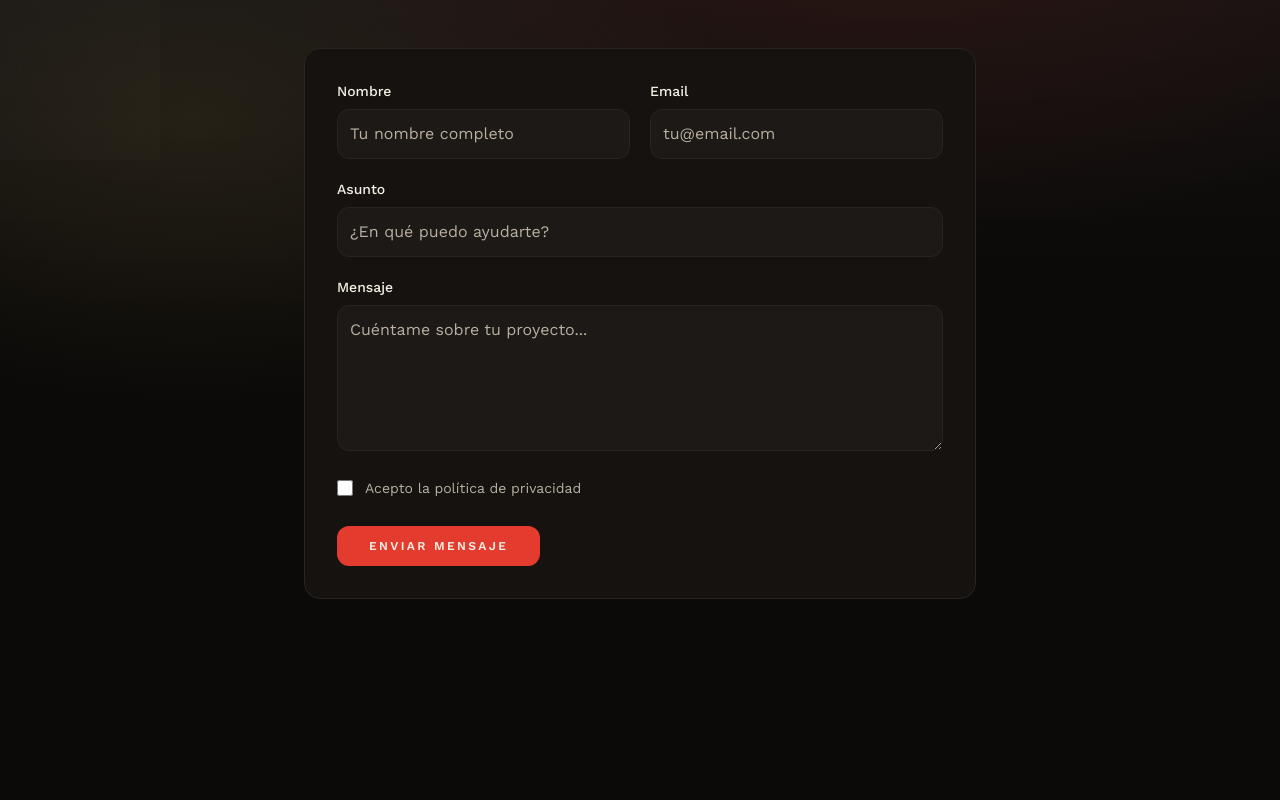
Test: ContactFormPanel › real form (SMTP configured) › submits valid data to the API and shows a localized success message
In the field labelled "Nombre": (484, 134) [337,109,630,159], type "Emmanuel Berrio"
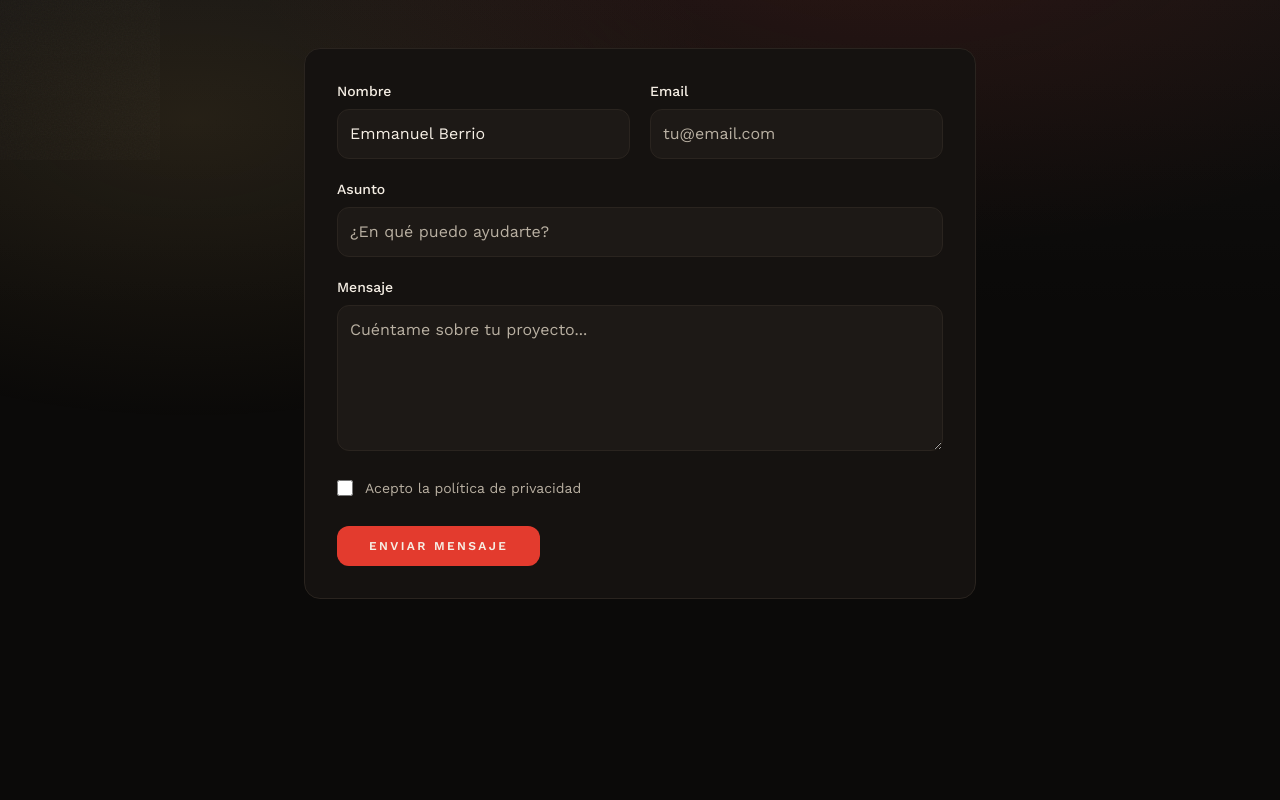
In the field labelled "Email": (796, 134) [650,109,943,159], type "emmanuel@example.com"
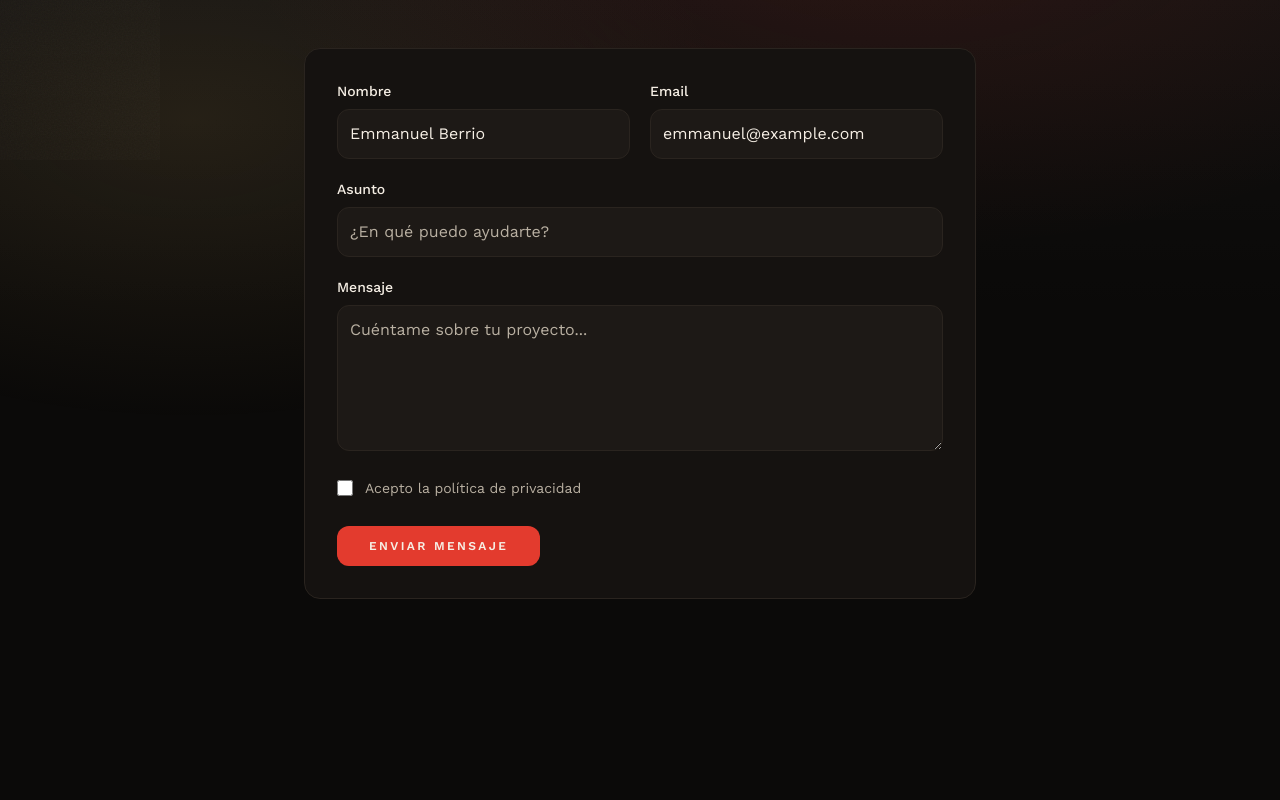
In the field labelled "Asunto": (640, 232) [337,207,943,257], type "Oportunidad"
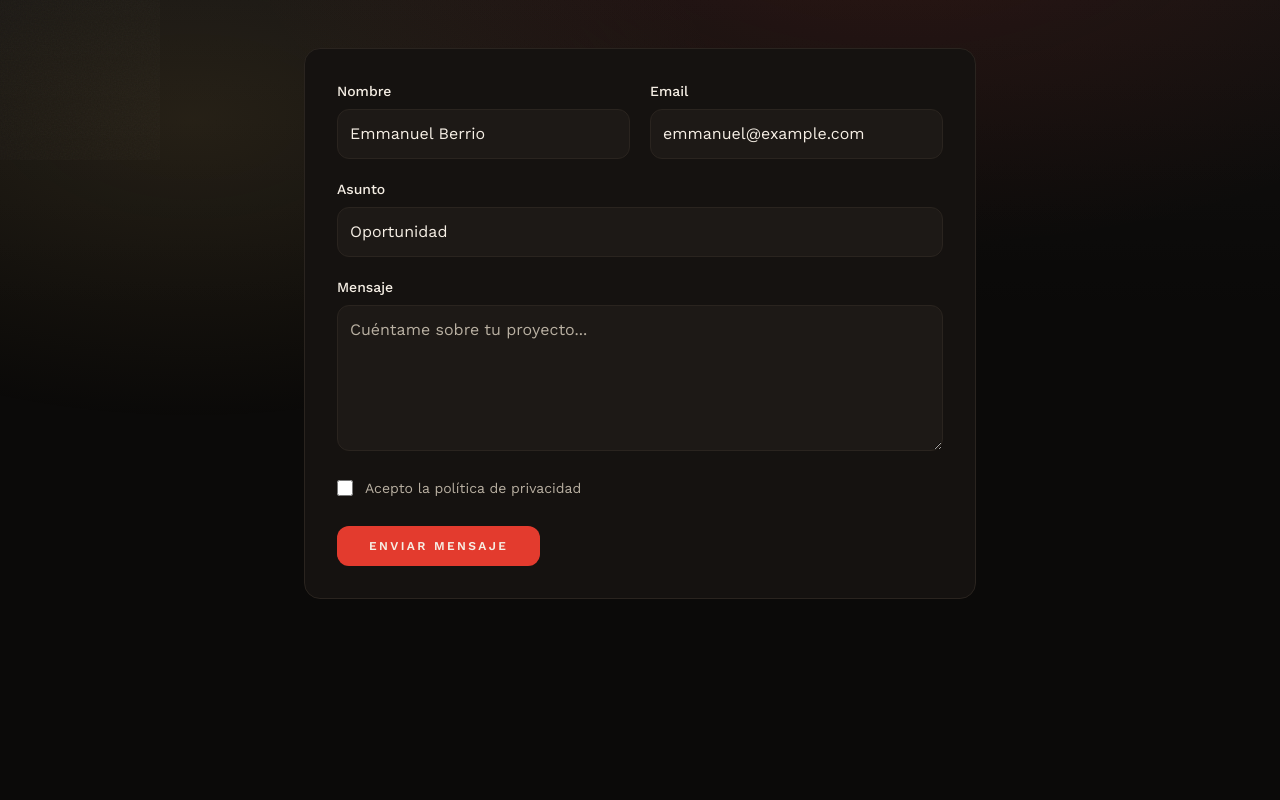
In the text box labelled "Mensaje": (640, 378) [337,305,943,451], type "Me gustaría conversar sobre una vacante para tu equipo."
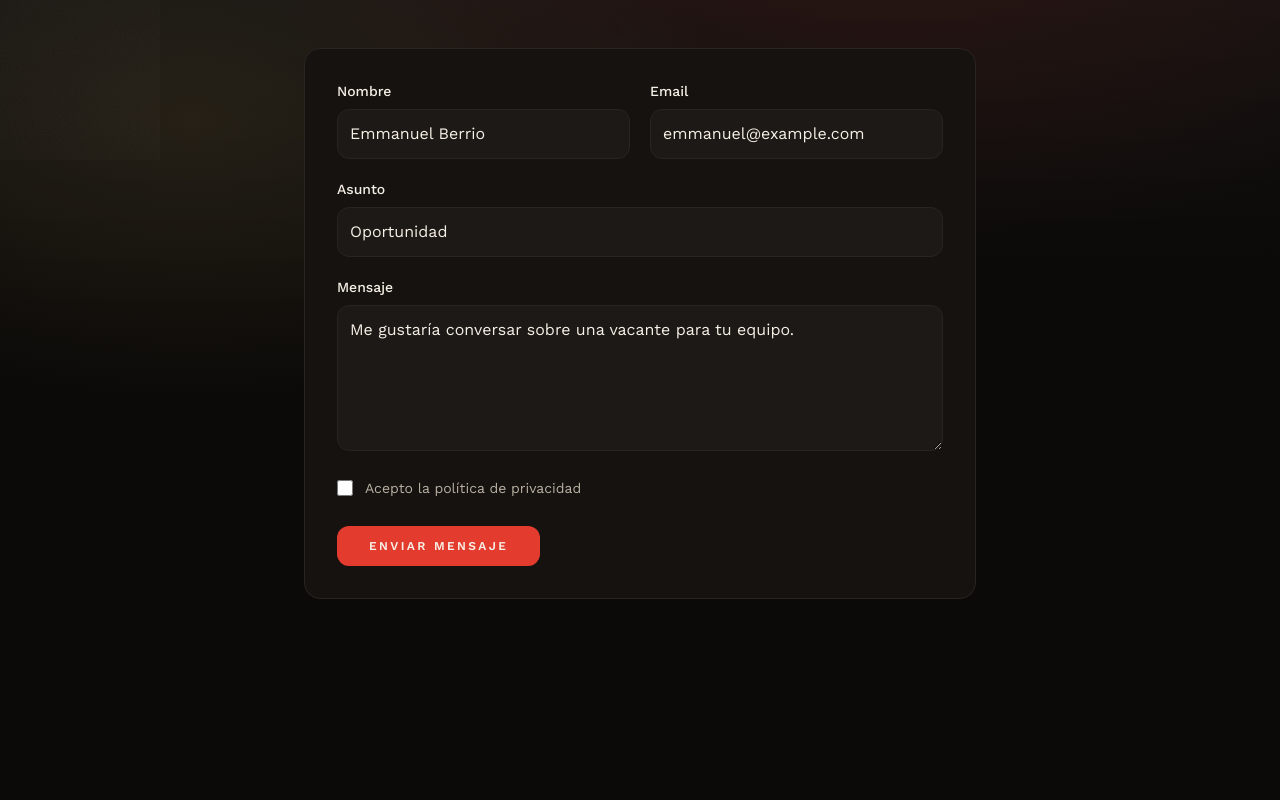
Click the checkbox labelled "Acepto la política de privacidad": click(345, 488) [337,480,353,496]
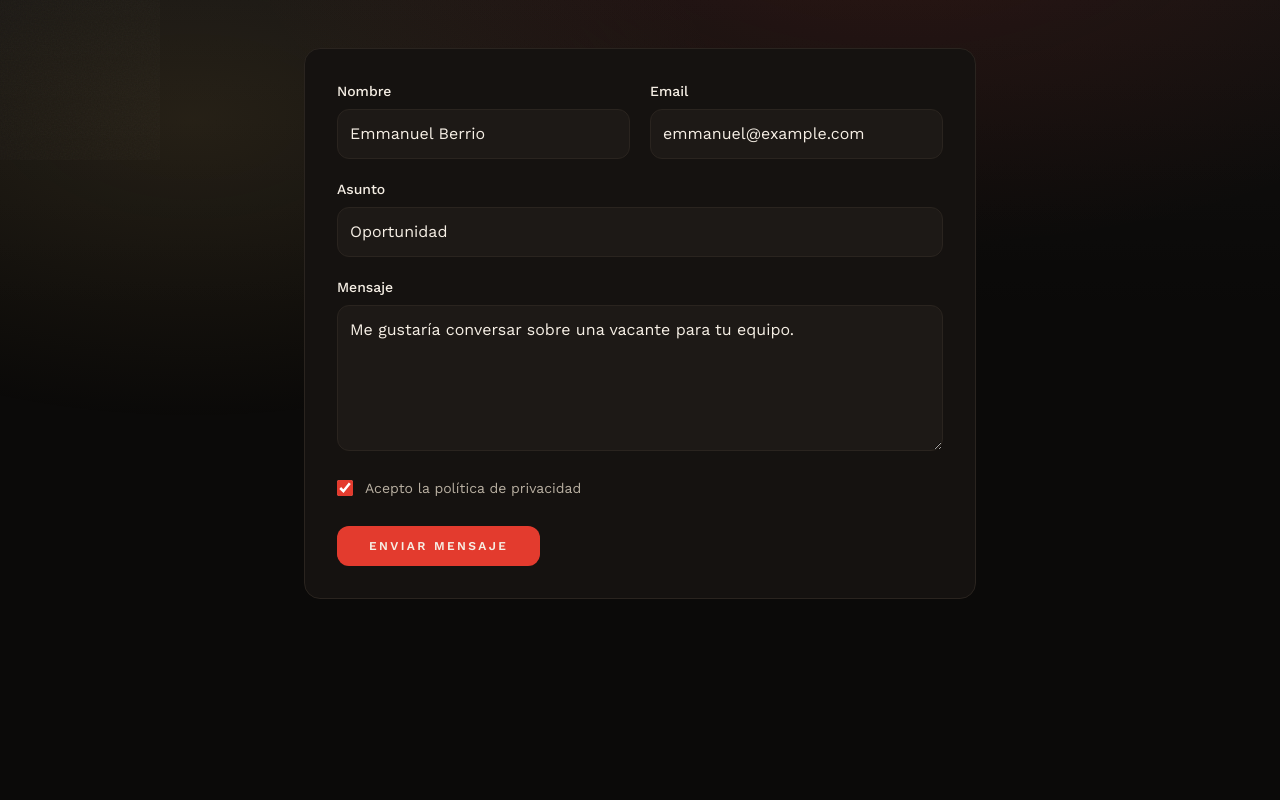
Click the button "Enviar mensaje": click(439, 546) [337,526,540,566]
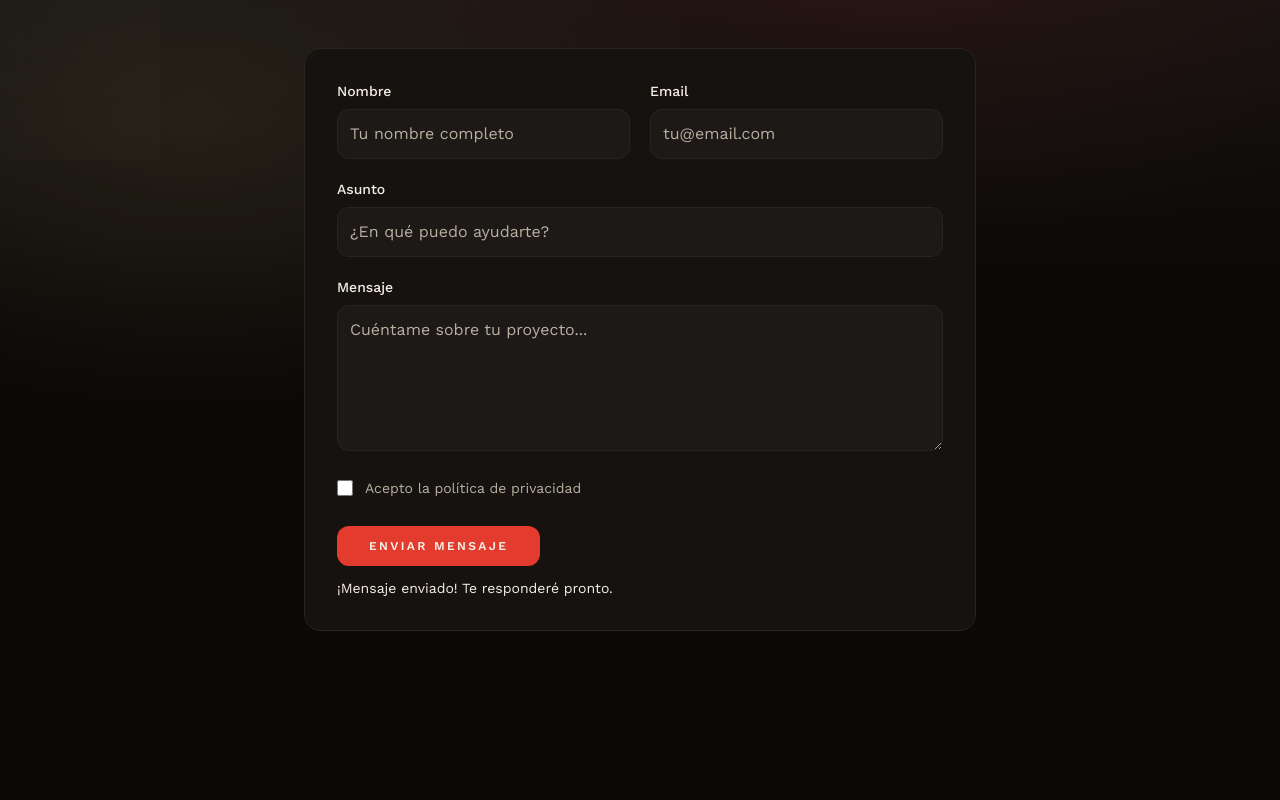
Expected: the text "¡Mensaje enviado! Te responderé pronto." is shown, [337,578,613,598]
